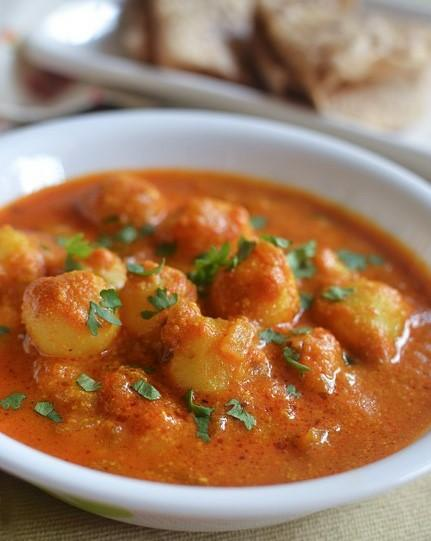DumAloo: (2, 167, 431, 489)
